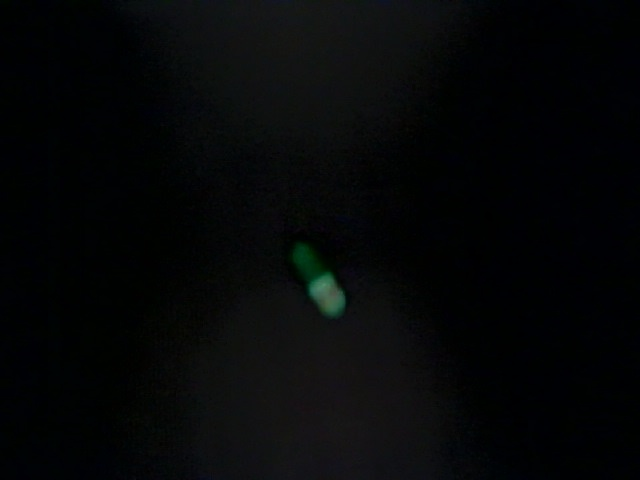YHLJ: (104, 94, 402, 180)
